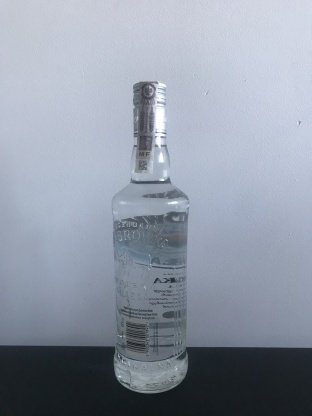nakretka: (130, 77, 169, 141)
